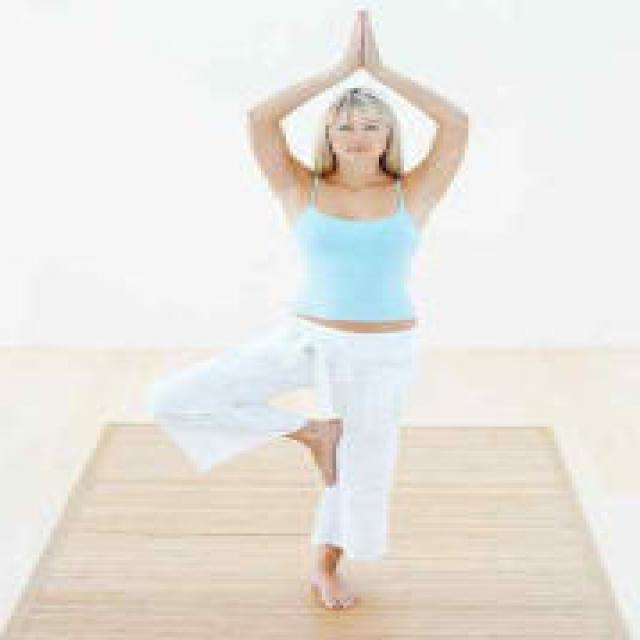yoga-pose tree: (144, 4, 474, 608)
